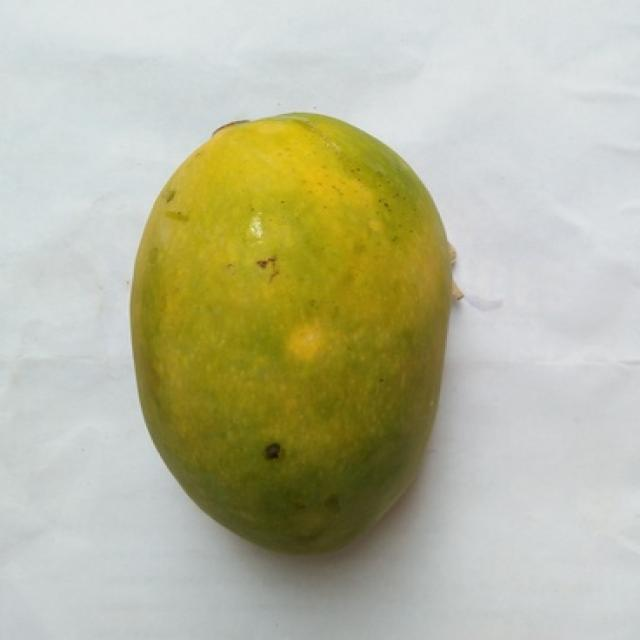Mango: (130, 114, 450, 552)
